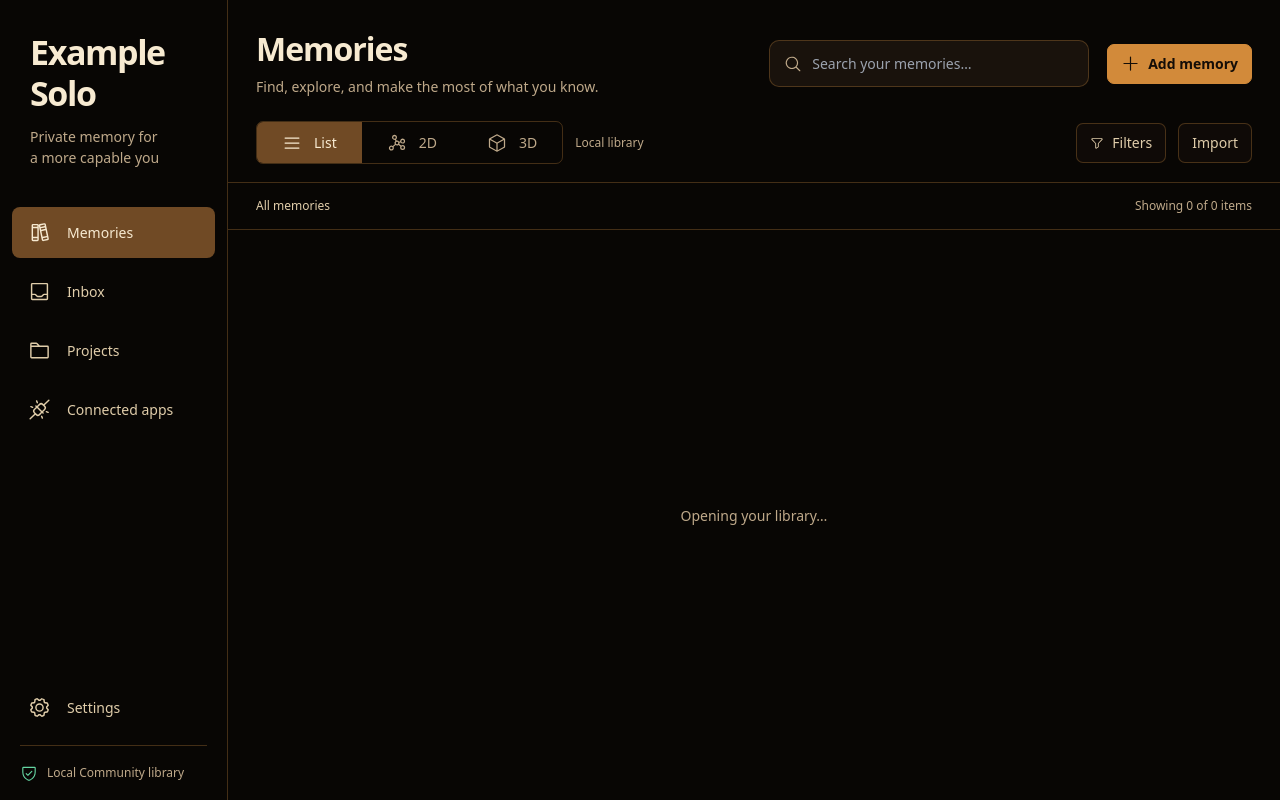
it: Solo Web host composition › adds a host tab beside the project, without displacing it
Click the button "Projects": (114, 350) x1=12 y1=325 x2=215 y2=376
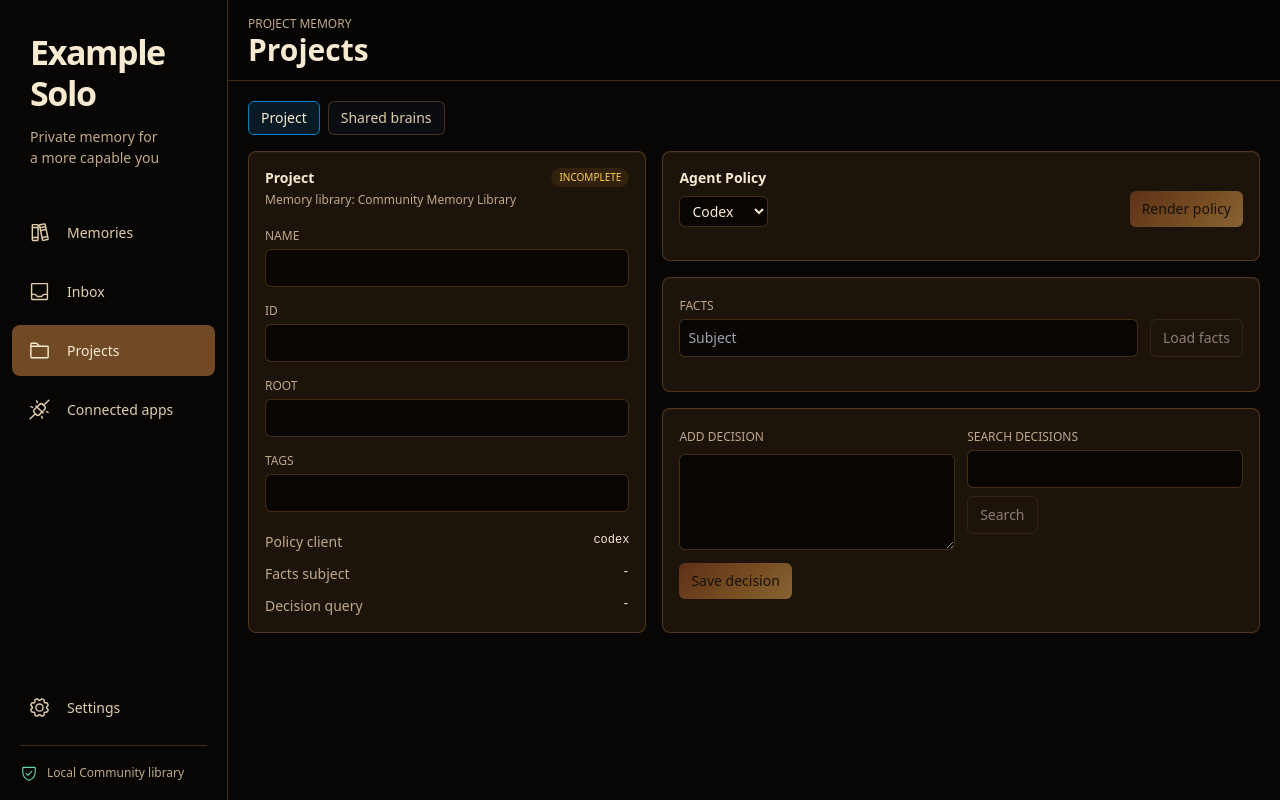
Now the heading "Project" is shown, box x1=265 y1=168 x2=314 y2=187
Click the tab "Shared brains": (386, 118) x1=328 y1=101 x2=444 y2=135
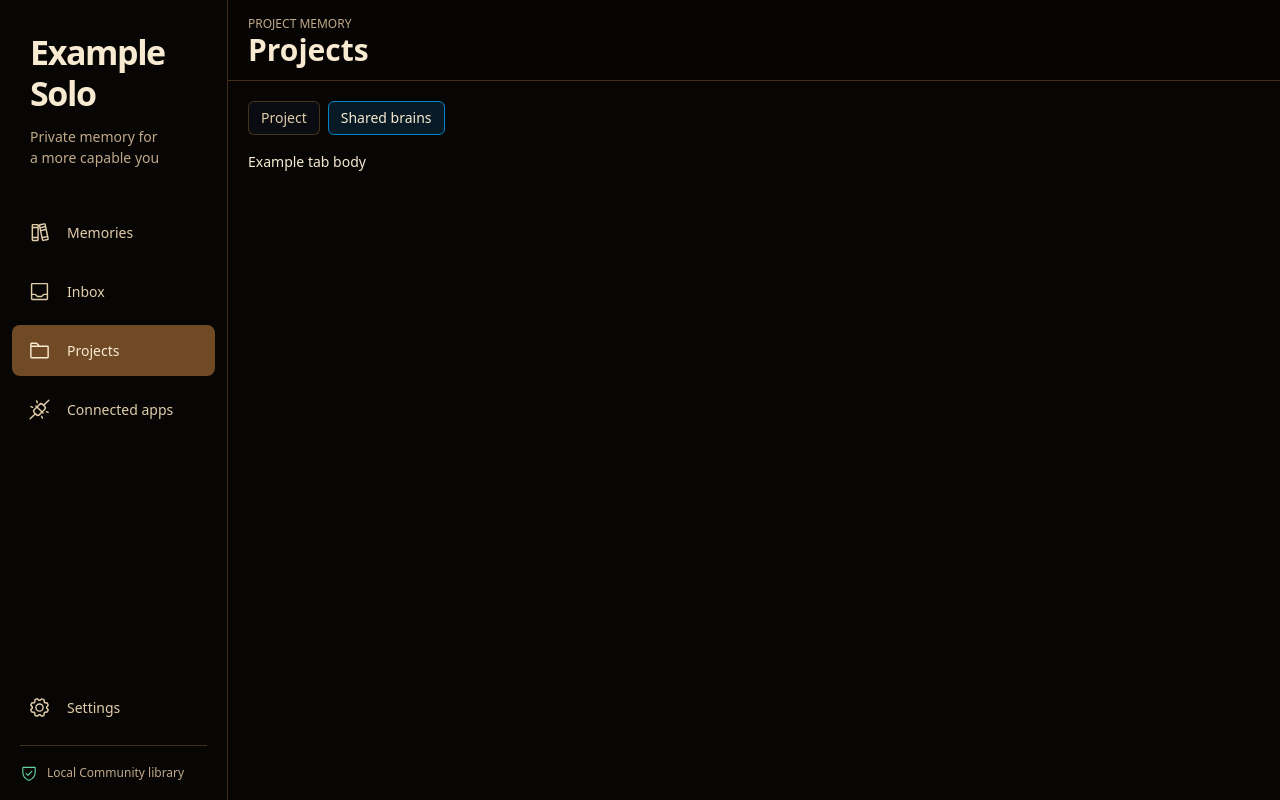
Now the text "Example tab body" is shown, box x1=248 y1=152 x2=366 y2=171
